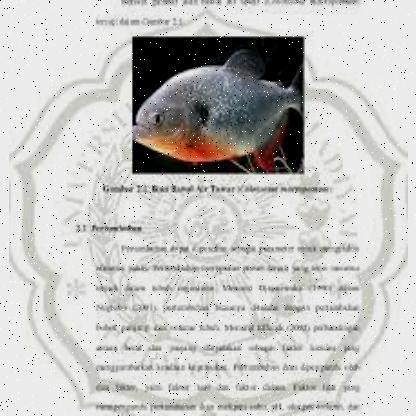ikan-pacu: (132, 46, 298, 164)
